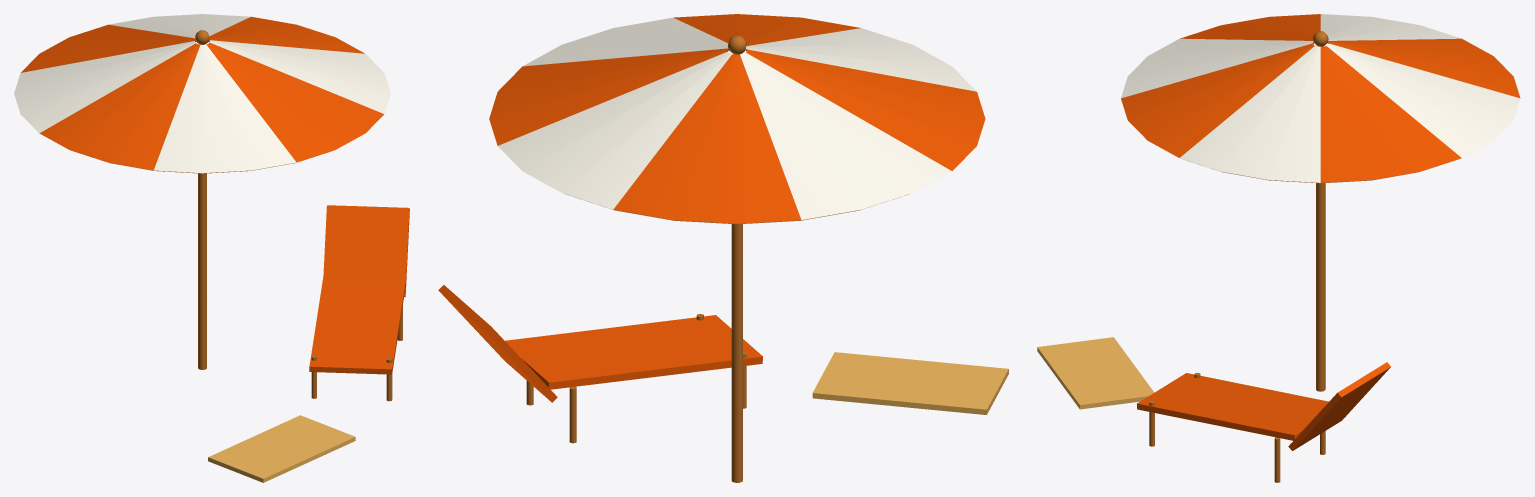
Rendered from parasol-rouge.glb.
3 renders of one model, left to right at view 1: azimuth 30°, elevation 25°; view 2: azimuth 150°, elevation 25°; view 3: azimuth 270°, elevation 25°, orthographic. The views are drawn at different scales.
Visible parts, largest first — view 1: toile__orange2, toile__blanc, mat__orange2, mat__orange3, mat__orange; view 2: toile__blanc, toile__orange2, mat__orange2, mat__orange3, mat__orange; view 3: toile__orange2, toile__blanc, mat__orange2, mat__orange3, mat__orange.
Boxes of the visible parts, bbox=[...] form: toile__orange2: bbox=[21, 16, 384, 170]; toile__blanc: bbox=[14, 14, 390, 173]; mat__orange2: bbox=[309, 205, 409, 374]; mat__orange3: bbox=[208, 415, 355, 482]; mat__orange: bbox=[198, 173, 402, 401]; toile__blanc: bbox=[498, 17, 976, 219]; toile__orange2: bbox=[489, 14, 985, 223]; mat__orange2: bbox=[438, 285, 762, 402]; mat__orange3: bbox=[812, 352, 1008, 414]; mat__orange: bbox=[526, 224, 746, 482]; toile__orange2: bbox=[1121, 14, 1520, 182]; toile__blanc: bbox=[1121, 14, 1520, 182]; mat__orange2: bbox=[1137, 362, 1390, 450]; mat__orange3: bbox=[1037, 337, 1154, 409]; mat__orange: bbox=[1149, 183, 1325, 482].
Bounding box in the file's own units: 2.89 × 2.45 × 3.
